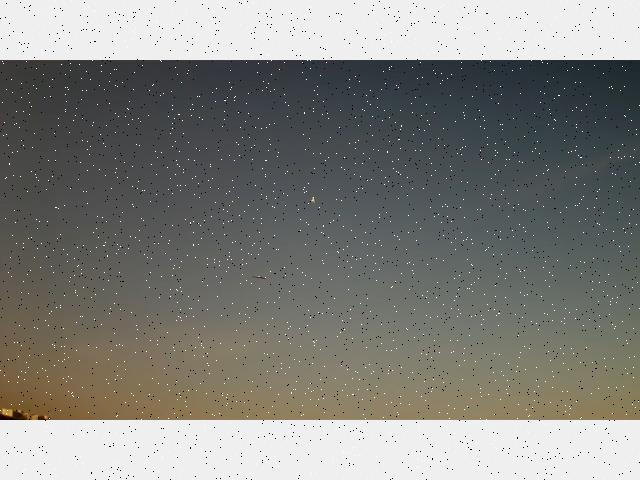Anti-Drone: (253, 275, 267, 278)
